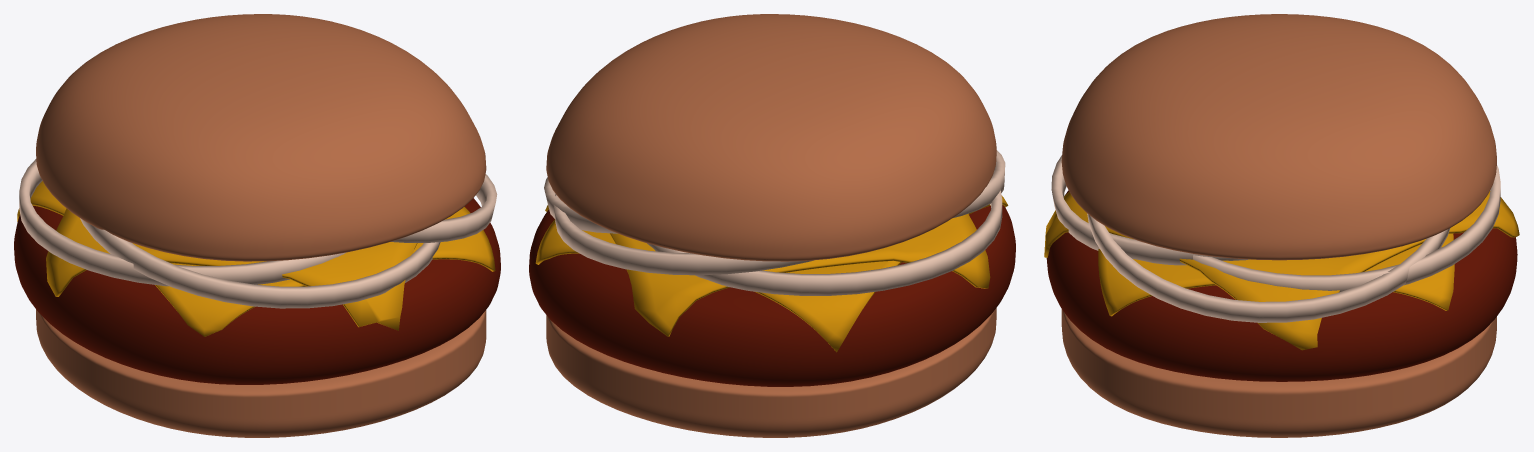
The model's file is hamburger.glb.
3 renders of one model, left to right at view 1: azimuth 30°, elevation 25°; view 2: azimuth 150°, elevation 25°; view 3: azimuth 270°, elevation 25°, orthographic.
Visible parts, largest first — view 1: Cube.002, Cube.001, Cube, Cylinder.002, Plane.001, Cylinder.001, Plane, Cylinder.003; view 2: Cube.002, Cube.001, Cube, Plane.001, Cylinder.001, Plane, Cylinder, Cylinder.002, Cylinder.003; view 3: Cube.002, Cube.001, Cube, Cylinder.003, Plane.001, Cylinder, Plane, Cylinder.002.
Part boxes in pixels (x1,y1,x2,y2): Cube.002: (36, 14, 486, 261); Cube.001: (14, 198, 500, 384); Cube: (36, 309, 486, 437); Cylinder.002: (80, 218, 440, 308); Plane.001: (46, 208, 417, 330); Cylinder.001: (19, 159, 346, 286); Plane: (17, 181, 495, 336); Cylinder.003: (390, 174, 497, 242); Cube.002: (546, 14, 996, 261); Cube.001: (529, 205, 1015, 386); Cube: (546, 308, 996, 437); Plane.001: (545, 205, 990, 336); Cylinder.001: (647, 190, 1002, 295); Plane: (535, 195, 1008, 352); Cylinder: (553, 194, 813, 275); Cylinder.002: (952, 150, 1005, 218); Cylinder.003: (544, 177, 617, 233); Cube.002: (1061, 14, 1496, 260); Cube.001: (1046, 190, 1517, 381); Cube: (1061, 309, 1496, 437); Cylinder.003: (1087, 213, 1450, 322); Plane.001: (1044, 191, 1519, 350); Cylinder: (1193, 165, 1500, 291); Plane: (1098, 233, 1454, 316); Cylinder.002: (1051, 155, 1249, 265).
Size of the model in its own units: 8.61 by 6.18 by 8.59.
